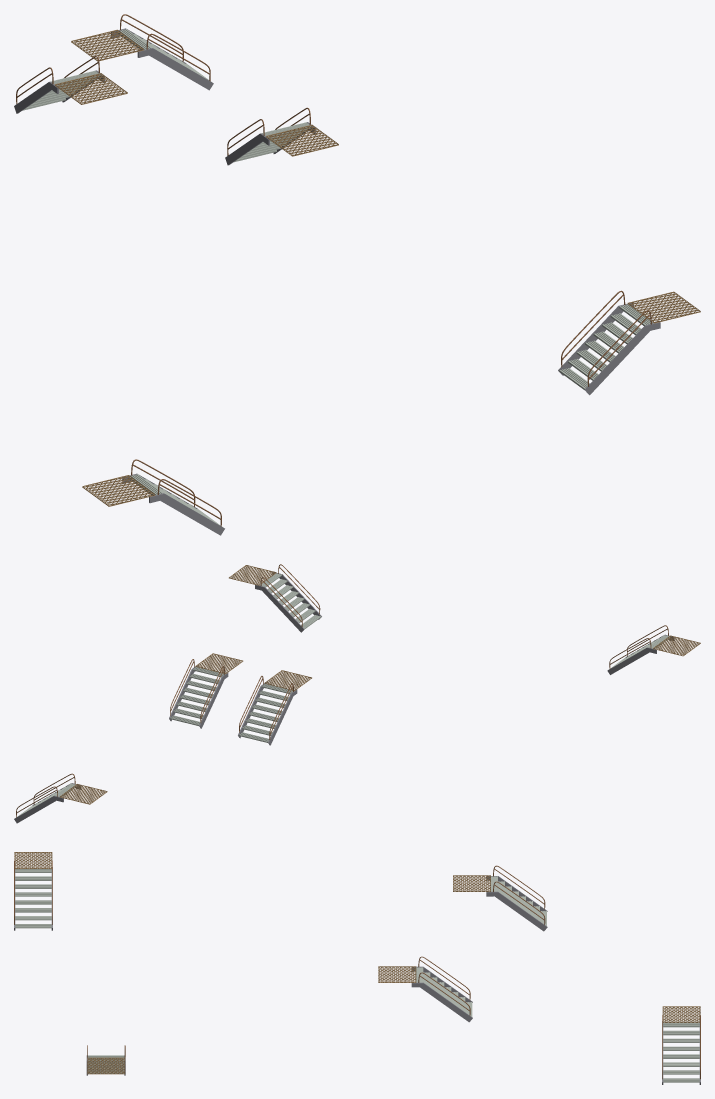
The model's file is level stairs1.fbx.
3 renders of one model, top to bottom at view 1: azimuth 30°, elevation 25°; view 2: azimuth 150°, elevation 25°; view 3: azimuth 270°, elevation 25°, orthographic. The views are drawn at different scales.
Visible parts, largest first — view 1: steps new.004, sides joined.004, platform 2.005, platform 2.002, platform 2.003, platform 2.001, platform 2.004, sides joined.005, sides joined.001, steps new.002, steps new.003; view 2: steps new.003, steps new.002, steps new.004, sides joined.004, platform 2.001, platform 2.005, platform 2.004, platform 2.002, platform 2.003, sides joined.002, sides joined.003; view 3: steps new.001, steps new.005, steps new.002, steps new.003, platform 2.004, sides joined.002, sides joined.003, platform 2.002, platform 2.001, platform 2.003, platform 2.005, steps new.004 (+2 smaller).
Boxes of the visible parts, left/top/right/bottom form: steps new.004: left=559, top=304, right=653, bottom=389; sides joined.004: left=558, top=303, right=660, bottom=395; platform 2.005: left=82, top=475, right=155, bottom=506; platform 2.002: left=266, top=124, right=338, bottom=156; platform 2.003: left=55, top=73, right=127, bottom=104; platform 2.001: left=71, top=29, right=143, bottom=61; platform 2.004: left=627, top=291, right=700, bottom=323; sides joined.005: left=122, top=473, right=224, bottom=535; sides joined.001: left=111, top=28, right=213, bottom=90; steps new.002: left=233, top=122, right=311, bottom=162; steps new.003: left=22, top=70, right=100, bottom=110; steps new.003: left=239, top=684, right=292, bottom=742; steps new.002: left=170, top=667, right=224, bottom=725; steps new.004: left=260, top=573, right=321, bottom=628; sides joined.004: left=255, top=572, right=321, bottom=632; platform 2.001: left=59, top=784, right=107, bottom=804; platform 2.005: left=653, top=635, right=700, bottom=656; platform 2.004: left=229, top=565, right=276, bottom=585; platform 2.002: left=195, top=653, right=243, bottom=673; platform 2.003: left=264, top=670, right=311, bottom=690; sides joined.002: left=169, top=666, right=228, bottom=728; sides joined.003: left=238, top=682, right=297, bottom=745; steps new.001: left=663, top=1023, right=699, bottom=1082; steps new.005: left=15, top=869, right=51, bottom=928; steps new.002: left=415, top=967, right=472, bottom=1016; steps new.003: left=490, top=876, right=546, bottom=925; platform 2.004: left=87, top=1057, right=125, bottom=1074; sides joined.002: left=411, top=966, right=472, bottom=1022; sides joined.003: left=486, top=876, right=547, bottom=931; platform 2.002: left=378, top=966, right=416, bottom=982; platform 2.001: left=662, top=1006, right=700, bottom=1022; platform 2.003: left=453, top=875, right=490, bottom=891; platform 2.005: left=14, top=852, right=52, bottom=868; steps new.004: left=88, top=1055, right=124, bottom=1073.
Bounding box in the file's own units: 34.72 × 9.07 × 45.46.
